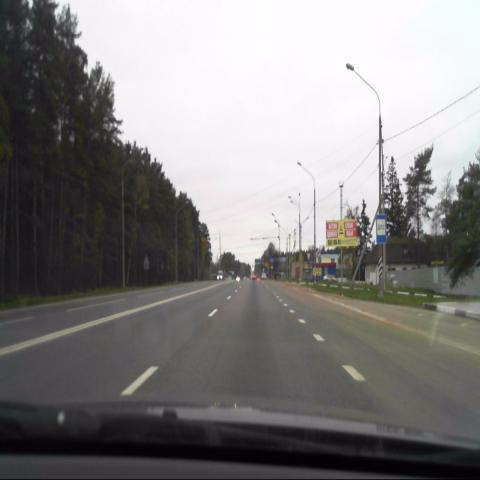7_12: (376, 215, 386, 243)
